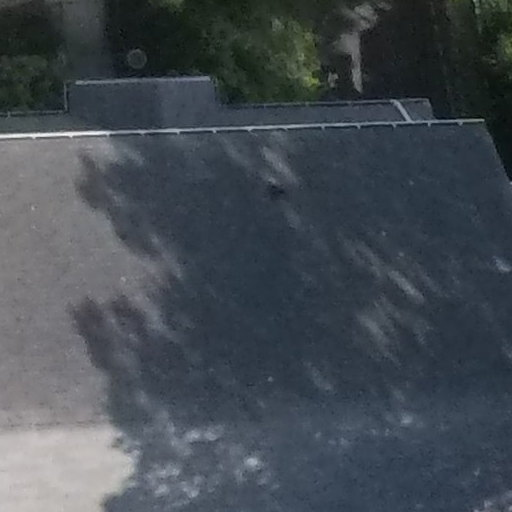container: (124, 44, 151, 72)
